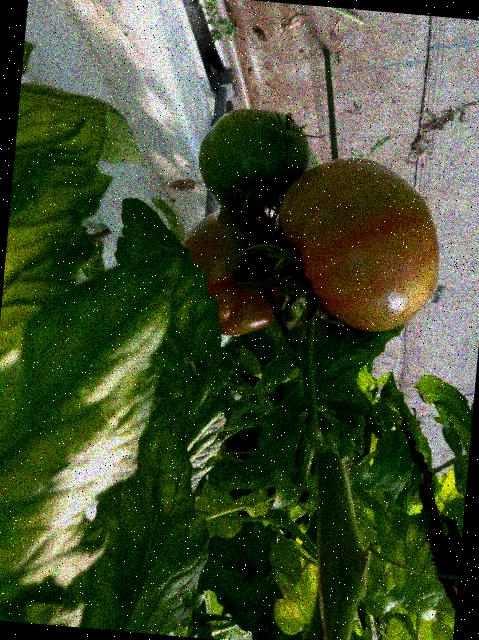b_green: (192, 104, 317, 218)
b_half_ripened: (269, 152, 447, 337), (171, 206, 294, 340)
